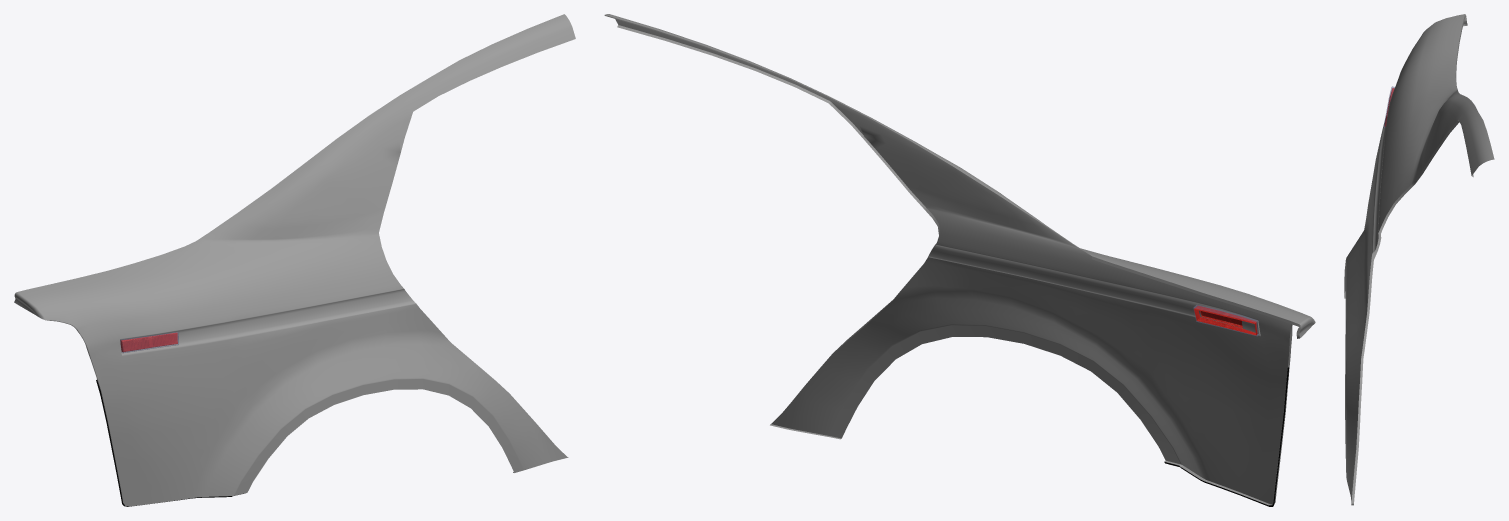
3 views of the same model, side by side, from view 1: azimuth 30°, elevation 25°; view 2: azimuth 150°, elevation 25°; view 3: azimuth 270°, elevation 25° (orthographic). The views are drawn at different scales.
Visible parts, largest first — view 1: X8163_401B_R_X8163_401B_R_1_DaS, X8163_401B_R_2_DTaSI_X8163_401B_R, X8163_401B_R_X8163_401B_R_3_N; view 2: X8163_401B_R_X8163_401B_R_1_DaS, X8163_401B_R_X8163_401B_R_1_DaS_E, X8163_401B_R_X8163_401B_R_3_N; view 3: X8163_401B_R_X8163_401B_R_1_DaS, X8163_401B_R_X8163_401B_R_1_DaS_E.
Boxes of the visible parts, <box> form: X8163_401B_R_X8163_401B_R_1_DaS: <box>14,14,575,506</box>; X8163_401B_R_2_DTaSI_X8163_401B_R: <box>120,332,178,353</box>; X8163_401B_R_X8163_401B_R_3_N: <box>120,332,177,352</box>; X8163_401B_R_X8163_401B_R_1_DaS: <box>605,14,1315,504</box>; X8163_401B_R_X8163_401B_R_1_DaS_E: <box>604,15,1300,505</box>; X8163_401B_R_X8163_401B_R_3_N: <box>1194,305,1257,335</box>; X8163_401B_R_X8163_401B_R_1_DaS: <box>1344,14,1494,502</box>; X8163_401B_R_X8163_401B_R_1_DaS_E: <box>1344,14,1482,505</box>.
Bounding box in the file's own units: 182 × 116 × 41.5.
